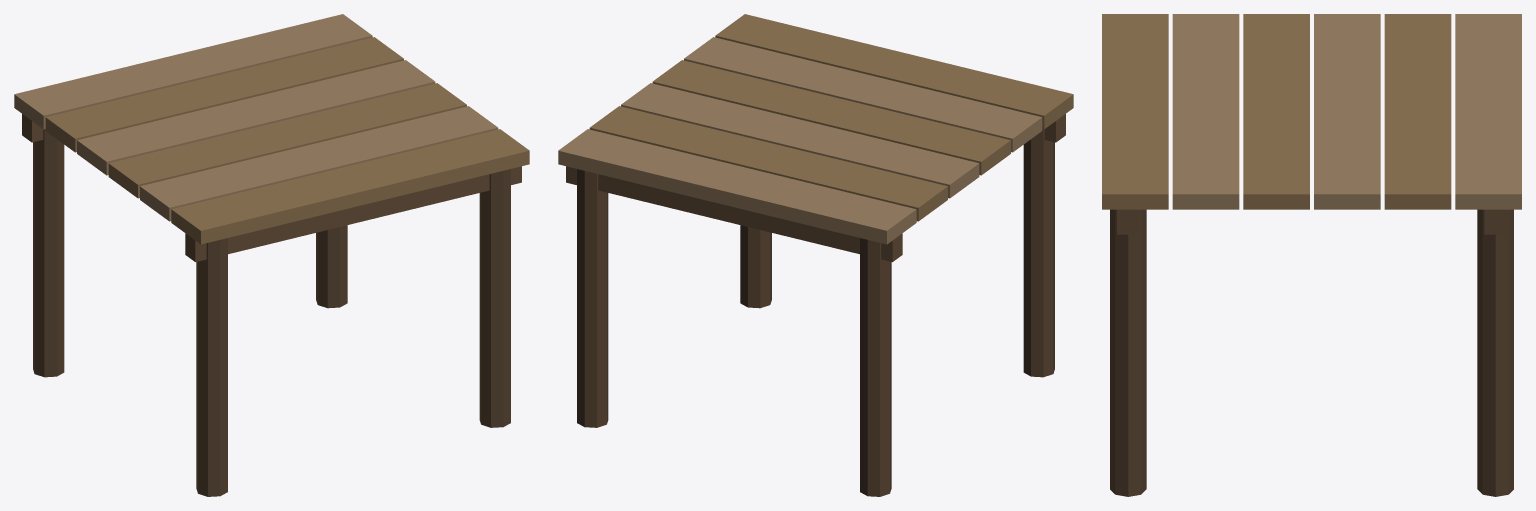
The model's file is pier.glb.
The picture shows the model from 3 angles, left to right: view 1: azimuth 30°, elevation 25°; view 2: azimuth 150°, elevation 25°; view 3: azimuth 270°, elevation 25°; orthographic projection. The views are drawn at different scales.
Visible parts, largest first — view 1: pier; view 2: pier; view 3: pier.
Part boxes in pixels (<box>): pier: <box>14,14,529,496</box>; pier: <box>558,14,1073,496</box>; pier: <box>1102,14,1521,496</box>.
Bounding box in the file's own units: 3.02 × 2.4 × 2.97.
